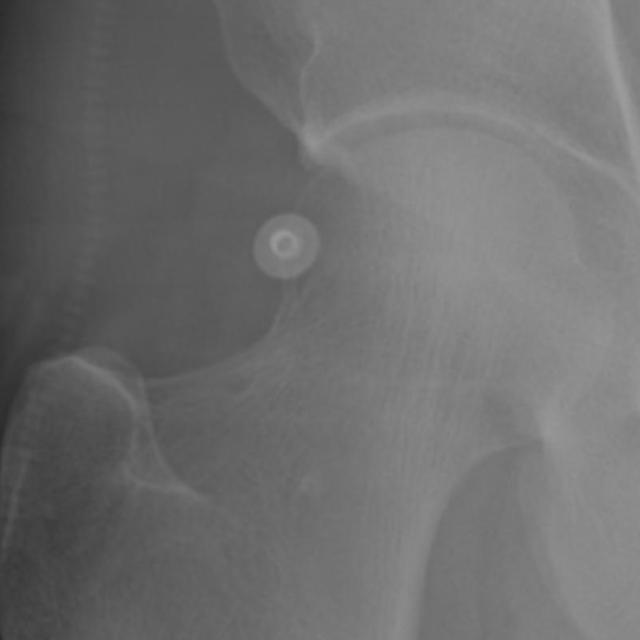Fitted_femural_head: (355, 130, 432, 355)
